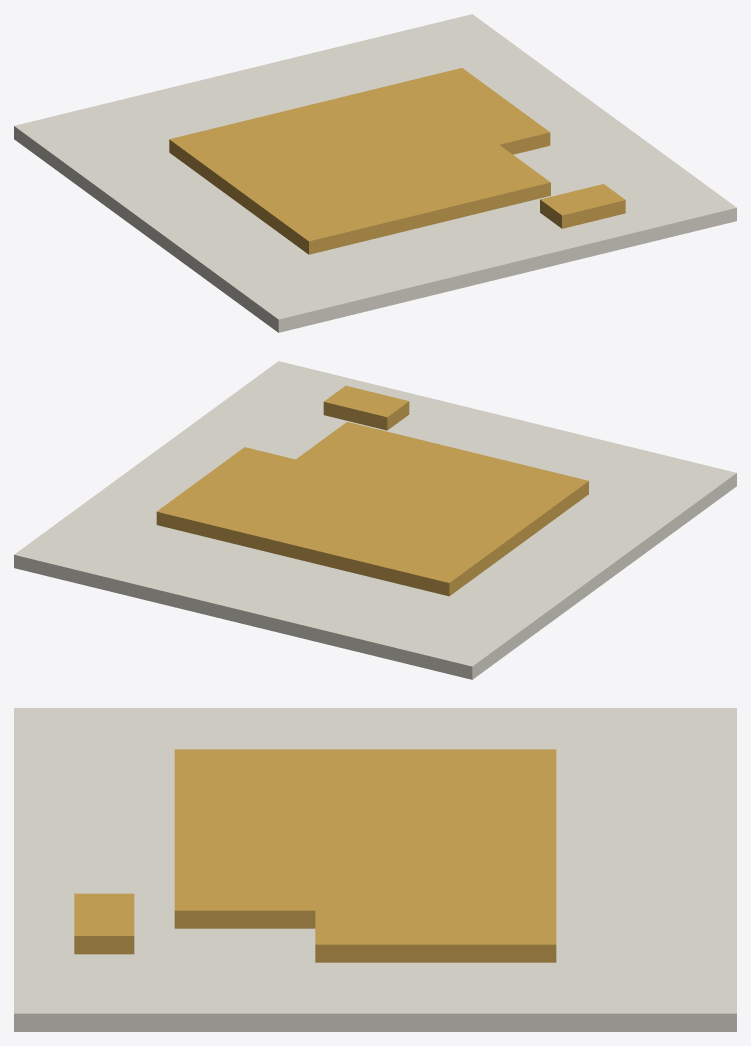
The model's file is hi_q_shatter.glb.
3 renders of one model, top to bottom at view 1: azimuth 30°, elevation 25°; view 2: azimuth 150°, elevation 25°; view 3: azimuth 270°, elevation 25°, orthographic. The views are drawn at different scales.
Parts seen in each view (by area): view 1: hi_q_shatter:compound; view 2: hi_q_shatter:compound; view 3: hi_q_shatter:compound.
Part boxes in pixels (bbox=[...]): hi_q_shatter:compound: bbox=[14, 14, 736, 332]; hi_q_shatter:compound: bbox=[14, 361, 736, 679]; hi_q_shatter:compound: bbox=[14, 708, 736, 1031].
Bounding box in the file's own units: 0.072 × 0.004 × 0.072.
